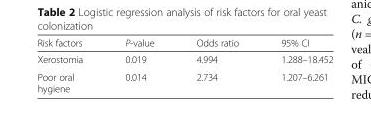table: (36, 36, 332, 93)
table column: (174, 36, 259, 93), (259, 36, 332, 93), (103, 36, 174, 93), (36, 36, 103, 93)
table column header: (36, 36, 332, 50)
table row: (36, 67, 332, 93), (36, 50, 332, 67), (36, 36, 332, 50)
